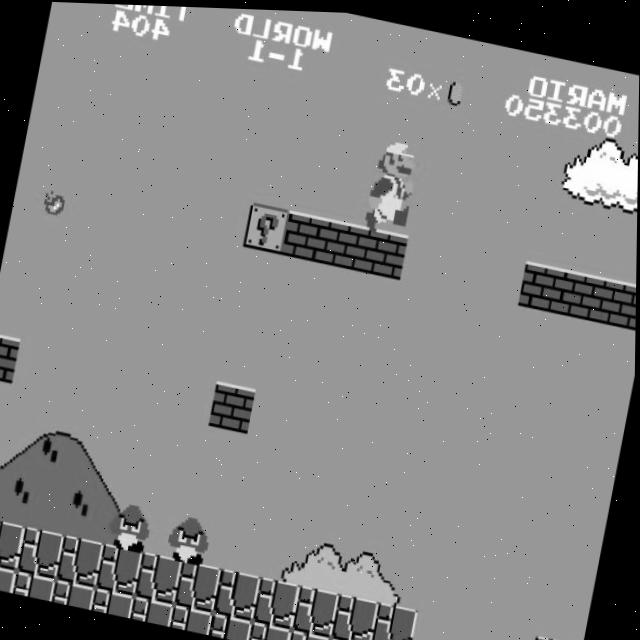1- brick_block: (557, 264, 606, 317), (360, 224, 409, 276), (321, 216, 370, 268), (282, 208, 331, 260), (209, 379, 257, 432), (518, 257, 566, 309), (596, 272, 637, 325), (0, 331, 21, 383)
13- mystery_block: (243, 200, 291, 252)
17- undestructible_block: (96, 541, 145, 595), (253, 574, 302, 627), (214, 566, 263, 619), (175, 558, 224, 611), (293, 582, 341, 636), (136, 550, 184, 603), (57, 534, 105, 587), (18, 526, 66, 579), (332, 590, 381, 640), (372, 599, 420, 640), (0, 518, 27, 571), (53, 578, 97, 610), (131, 594, 176, 625), (171, 602, 215, 633), (92, 586, 136, 617), (14, 570, 58, 601), (210, 610, 254, 640), (249, 618, 293, 640), (289, 627, 333, 640), (0, 562, 18, 593), (529, 631, 577, 640), (328, 635, 372, 640), (569, 639, 584, 640)
4- fire_mario: (363, 133, 424, 235)
5- fireball: (43, 186, 67, 216)
8- goomba: (165, 509, 217, 566), (107, 497, 158, 554)
